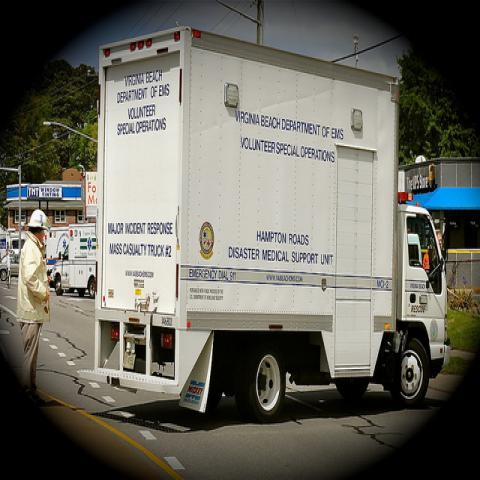car: (0, 238, 24, 283)
truck: (77, 29, 446, 421), (49, 224, 97, 298)
